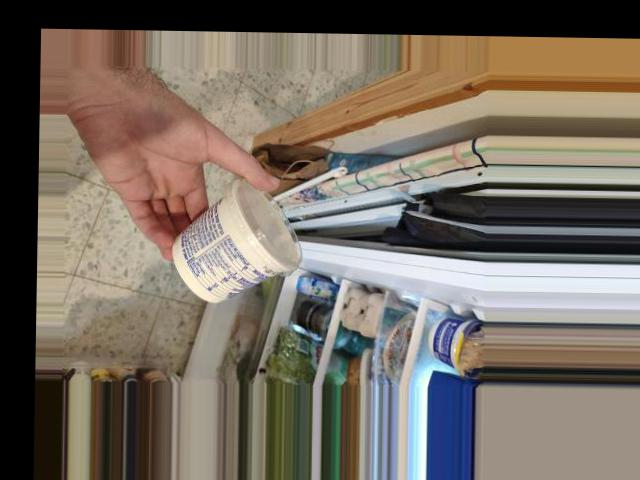cotage: (174, 168, 286, 290)
